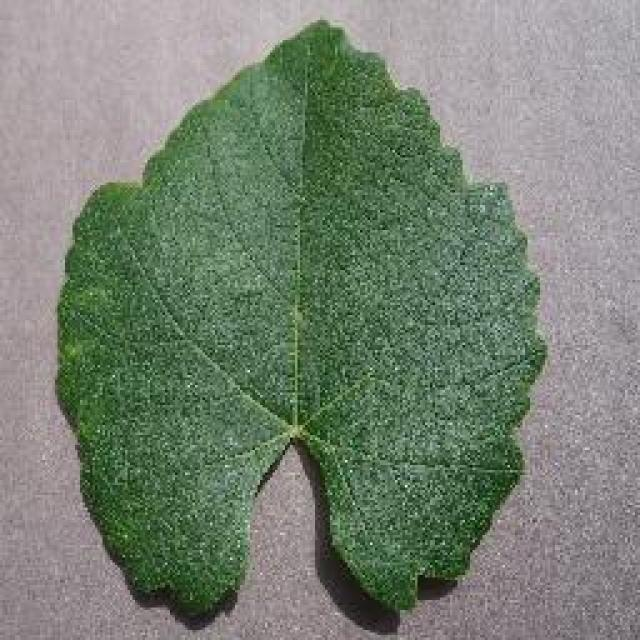Healthy: (44, 19, 561, 629)
